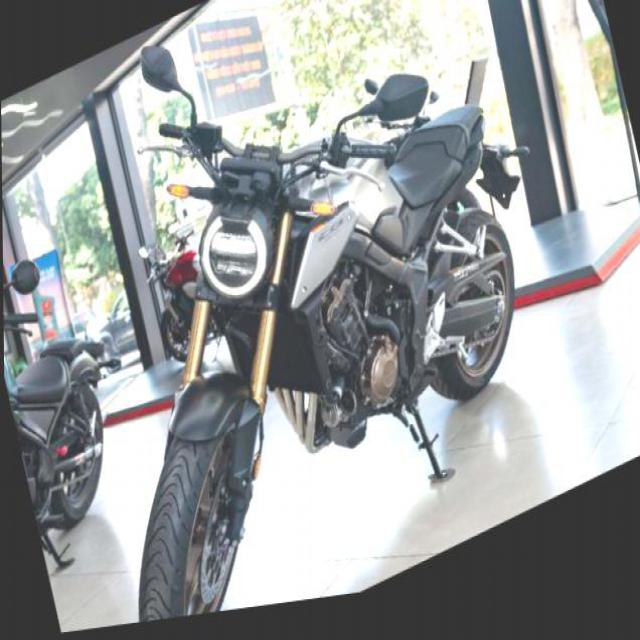CB650R: (21, 0, 601, 636)
